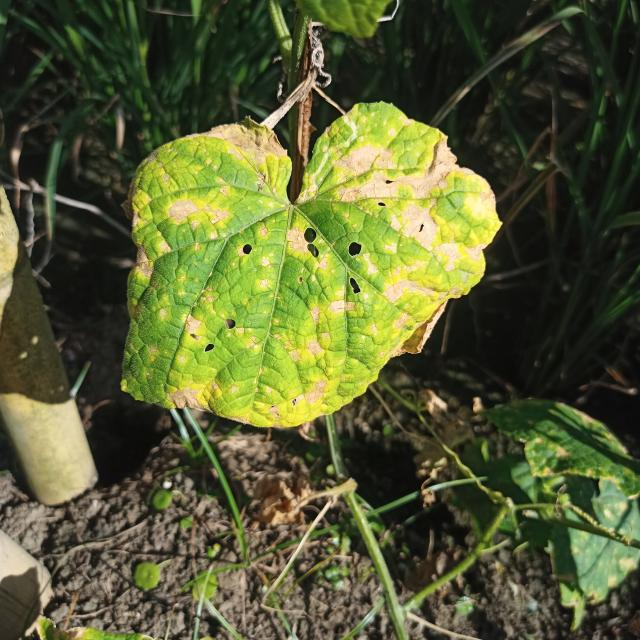disease_cucumber: (120, 105, 496, 430)
